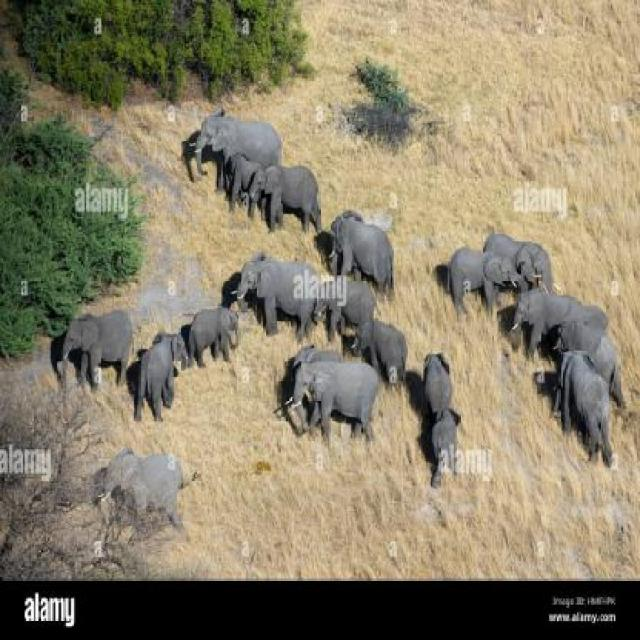elephant: (285, 360, 397, 465), (534, 357, 614, 471), (234, 249, 326, 336), (499, 279, 595, 355), (57, 300, 137, 391), (328, 208, 398, 303), (557, 312, 625, 408), (185, 116, 289, 178), (246, 159, 332, 224), (128, 328, 192, 412), (440, 243, 515, 314), (294, 282, 383, 331), (484, 234, 564, 288), (352, 310, 408, 384), (416, 339, 464, 413), (288, 335, 346, 391), (423, 409, 459, 497), (187, 302, 238, 358), (227, 138, 253, 228)
